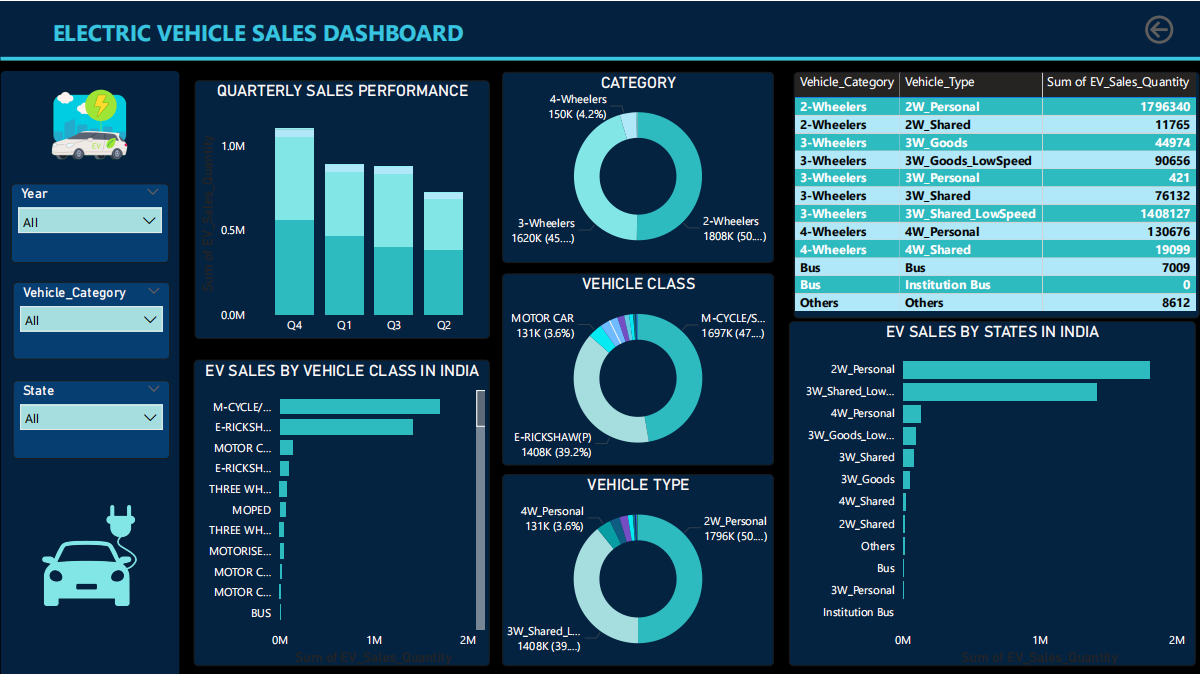

The dashboard page shown, as its layout file describes it:
{"tool":"powerbi","page":{"name":"DB2","canvas":[1280,720],"ordinal":1},"visuals":[{"type":"shape","box":[0,48,1919.7,26.1],"z":0},{"type":"textbox","box":[50.8,11,728.6,50.8],"z":1},{"type":"donutChart","title":" CATEGORY ","fields":{"Y":["Sum(electric_cleaned.EV_Sales_Quantity)"],"Category":["electric_cleaned.Vehicle_Category"]},"box":[535.3,75,289.7,204.4],"z":2},{"type":"shape","box":[0,0,1280.3,61.7],"z":3},{"type":"shape","box":[0,74.3,191.4,645.7],"z":4},{"type":"columnChart","title":"QUARTERLY SALES PERFORMANCE","fields":{"Category":["electric_cleaned.Month_Name (groups)"],"Y":["Sum(electric_cleaned.EV_Sales_Quantity)"],"Series":["electric_cleaned.Vehicle_Category"]},"box":[207.4,83.8,314.7,276.5],"z":9},{"type":"clusteredBarChart","title":"EV SALES BY STATES IN INDIA","fields":{"Y":["Sum(electric_cleaned.EV_Sales_Quantity)"],"Category":["electric_cleaned.Vehicle_Type"]},"box":[841.2,341.2,433.8,367.6],"z":10},{"type":"tableEx","title":"EV SALES BY STATES IN INDIA","fields":{"Values":["electric_cleaned.Vehicle_Category","electric_cleaned.Vehicle_Type","Sum(electric_cleaned.EV_Sales_Quantity)"]},"box":[845.6,75,433.8,263.2],"z":12},{"type":"slicer","title":"Quantity Sold","fields":{"Values":["electric_cleaned.Year"]},"box":[11.4,194.3,168.6,84.3],"z":13},{"type":"slicer","title":"Quantity Sold","fields":{"Values":["electric_cleaned.Vehicle_Category"]},"box":[13.2,298.5,167.6,83.8],"z":14},{"type":"slicer","title":"Quantity Sold","fields":{"Values":["electric_cleaned.State"]},"box":[13.2,404.4,167.6,83.8],"z":15},{"type":"donutChart","title":"VEHICLE CLASS","fields":{"Y":["Sum(electric_cleaned.EV_Sales_Quantity)"],"Category":["electric_cleaned.Vehicle_Class"]},"box":[535.3,289.7,289.7,205],"z":16},{"type":"donutChart","title":"VEHICLE TYPE","fields":{"Y":["Sum(electric_cleaned.EV_Sales_Quantity)"],"Category":["electric_cleaned.Vehicle_Type"]},"box":[535.3,504.4,289.7,204.4],"z":18},{"type":"clusteredBarChart","title":"EV SALES BY VEHICLE CLASS IN INDIA","fields":{"Y":["Sum(electric_cleaned.EV_Sales_Quantity)"],"Category":["electric_cleaned.Vehicle_Class"]},"box":[205.9,382.4,316.2,326.5],"z":19},{"type":"actionButton","box":[1216.2,10.3,45.6,39.7],"z":20},{"type":"image","box":[48.5,83.8,92.6,94.1],"z":21},{"type":"image","box":[36.8,525,116.2,132.4],"z":22}]}

Visuals, with their boxes in screenshot pixels (x1, y1, x2, y2), scaled from the page's 1280x720 canvas onto the 1200x674 screenshot:
shape: bbox(0, 45, 1199, 69)
textbox: bbox(48, 10, 731, 58)
" CATEGORY " donutChart: bbox(502, 70, 773, 262)
shape: bbox(0, 0, 1199, 58)
shape: bbox(0, 70, 179, 673)
"QUARTERLY SALES PERFORMANCE" columnChart: bbox(194, 78, 489, 337)
"EV SALES BY STATES IN INDIA" clusteredBarChart: bbox(789, 319, 1195, 664)
"EV SALES BY STATES IN INDIA" tableEx: bbox(793, 70, 1199, 317)
"Quantity Sold" slicer: bbox(11, 182, 169, 261)
"Quantity Sold" slicer: bbox(12, 279, 169, 358)
"Quantity Sold" slicer: bbox(12, 379, 169, 457)
"VEHICLE CLASS" donutChart: bbox(502, 271, 773, 463)
"VEHICLE TYPE" donutChart: bbox(502, 472, 773, 664)
"EV SALES BY VEHICLE CLASS IN INDIA" clusteredBarChart: bbox(193, 358, 489, 664)
actionButton: bbox(1140, 10, 1183, 47)
image: bbox(45, 78, 132, 167)
image: bbox(34, 491, 143, 615)
